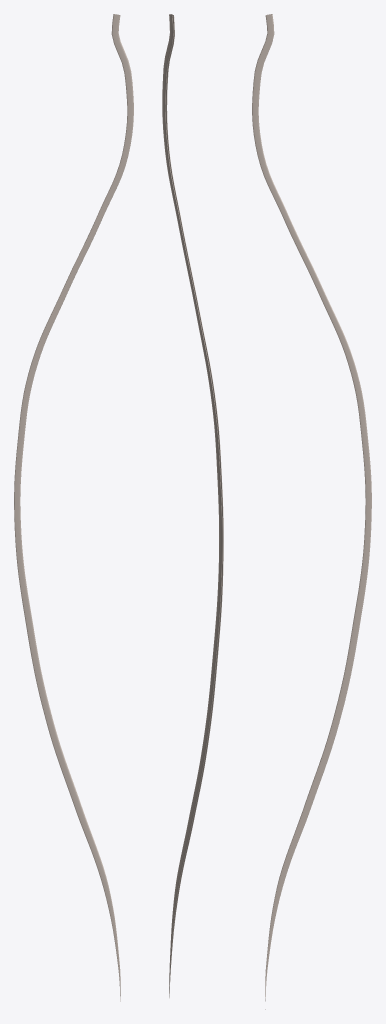
The model's file is nervoso-anterior-corticospinal-tract.glb.
3 renders of one model, left to right at view 1: azimuth 90°, elevation 25°; view 2: azimuth 210°, elevation 25°; view 3: azimuth 270°, elevation 25°, orthographic.
Parts seen in each view (by area): view 1: Anterior corticospinal tract; view 2: Anterior corticospinal tract; view 3: Anterior corticospinal tract.
Boxes of the visible parts, x1,y1,x2,y2 form: Anterior corticospinal tract: (14,14,133,1001); Anterior corticospinal tract: (162,14,223,998); Anterior corticospinal tract: (252,14,371,1009).
Size of the model in its own units: 0.00111 by 0.4894 by 0.0534.
